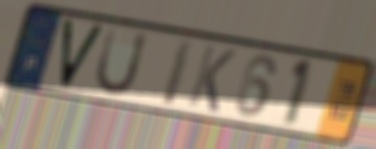1: (281, 58, 317, 128)
6: (234, 53, 279, 120)
I: (158, 36, 197, 109)
K: (184, 42, 238, 115)
U: (92, 24, 151, 98)
V: (58, 16, 108, 93)
